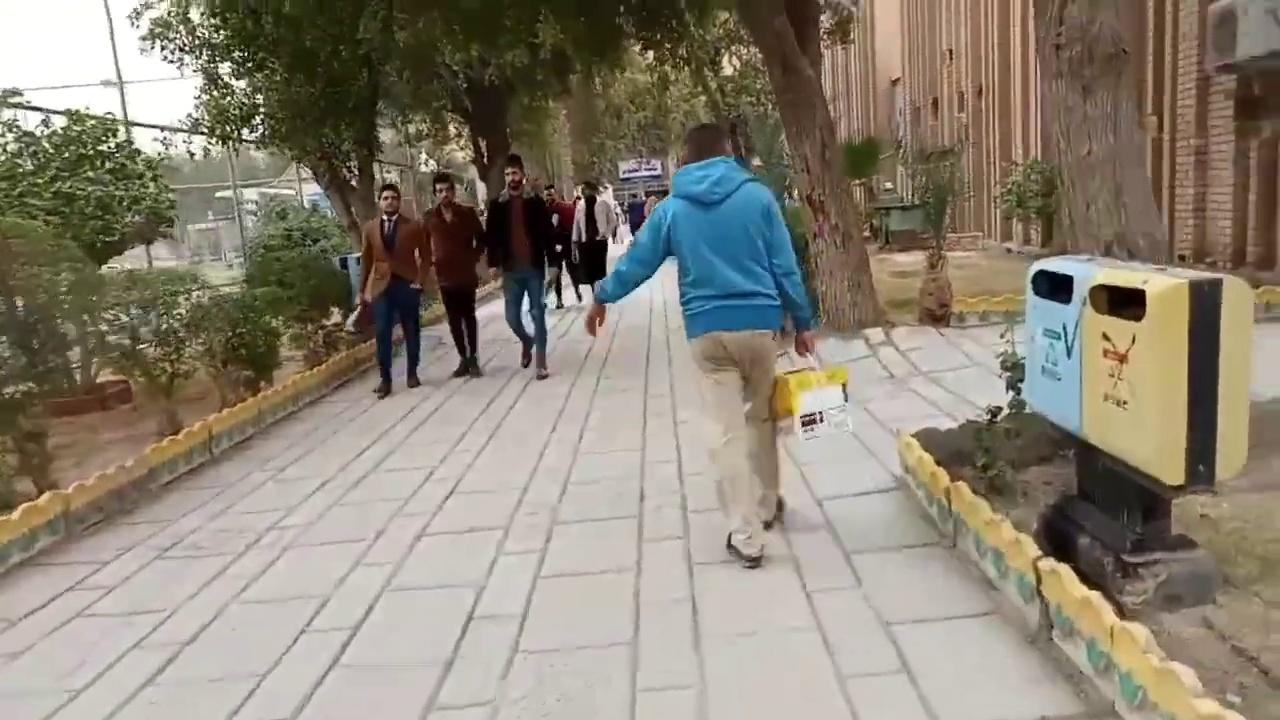person: (584, 122, 817, 568), (484, 152, 561, 380), (357, 182, 431, 398), (422, 171, 488, 378), (570, 179, 617, 302), (543, 183, 581, 309)
tree: (127, 0, 885, 335), (0, 87, 180, 404), (730, 0, 888, 333), (378, 0, 626, 212), (1033, 0, 1168, 262), (992, 152, 1059, 250)
